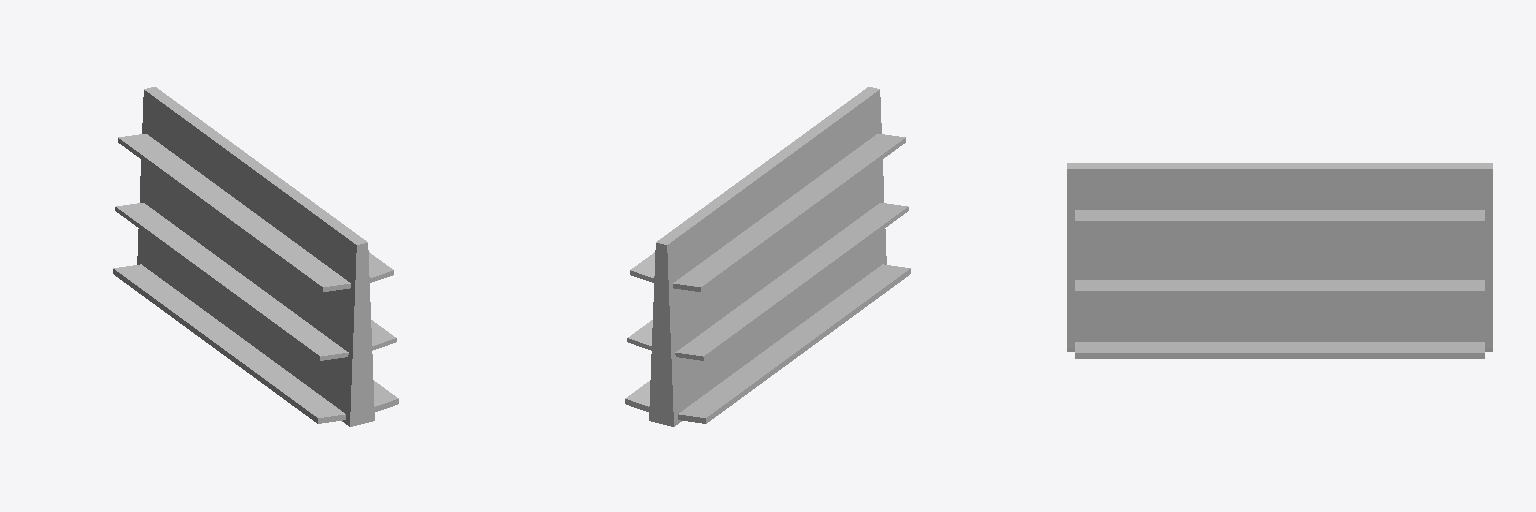
The model's file is shell.2.obj.
The picture shows the model from 3 angles: view 1: azimuth 30°, elevation 25°; view 2: azimuth 150°, elevation 25°; view 3: azimuth 270°, elevation 25°; orthographic projection.
Parts seen in each view (by area): view 1: Cube.001_Cube; view 2: Cube.001_Cube; view 3: Cube.001_Cube.
Boxes of the visible parts, x1,y1,x2,y2 form: Cube.001_Cube: [113, 87, 398, 426]; Cube.001_Cube: [625, 87, 910, 426]; Cube.001_Cube: [1067, 163, 1492, 358].
Size of the model in its own units: 1.02 by 2.17 by 4.65.